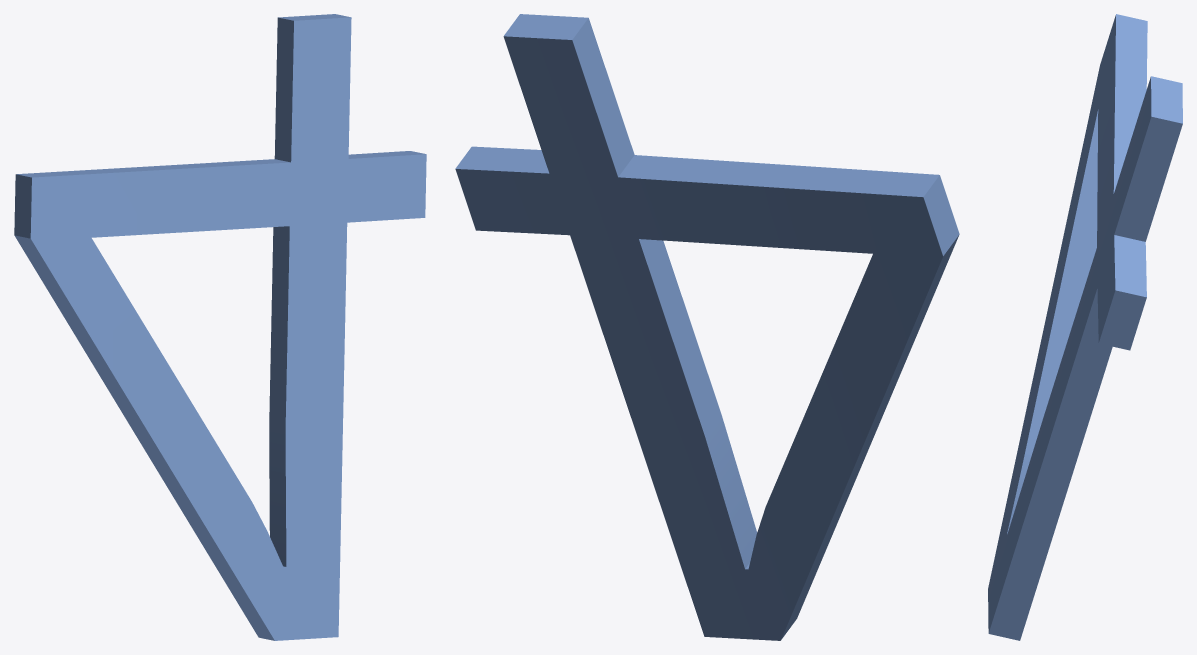
File: Number_4.gltf
The picture shows the model from 3 angles, left to right: view 1: azimuth 30°, elevation 25°; view 2: azimuth 150°, elevation 25°; view 3: azimuth 270°, elevation 25°; orthographic projection. The views are drawn at different scales.
Visible parts, largest first — view 1: Sub_6_Cell_3_3_Number_4; view 2: Sub_6_Cell_3_3_Number_4; view 3: Sub_6_Cell_3_3_Number_4.
Boxes of the visible parts, <box> form: Sub_6_Cell_3_3_Number_4: <box>14,14,426,640</box>; Sub_6_Cell_3_3_Number_4: <box>455,14,959,640</box>; Sub_6_Cell_3_3_Number_4: <box>988,14,1182,640</box>.
Bounding box in the file's own units: 0.0189 × 0.025 × 0.00757.
